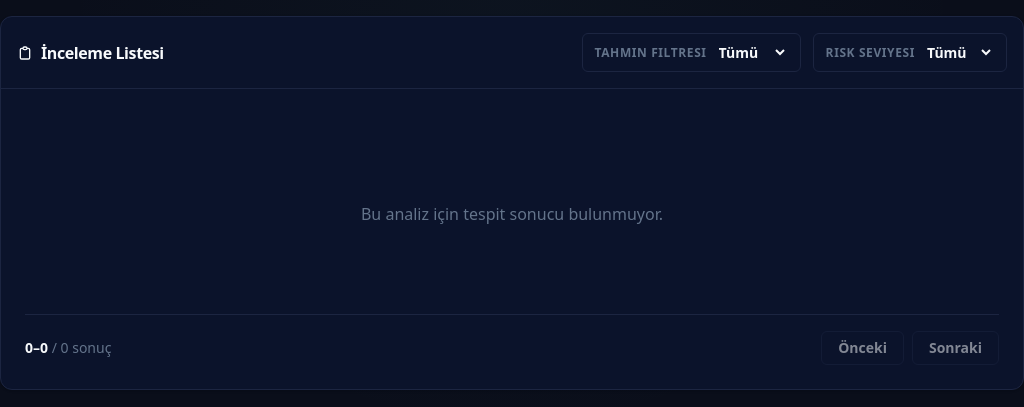
Test: DetectionResultsList › 17. Filtreli ve filtresiz empty state ayrılır
Expected: the text "Bu analiz için tespit sonucu bulunmuyor." is shown, x1=361 y1=202 x2=663 y2=226
Select "Yüksek" in the dropdown labelled "Risk Seviyesi" at point(958, 52), box x1=923 y1=40 x2=994 y2=65
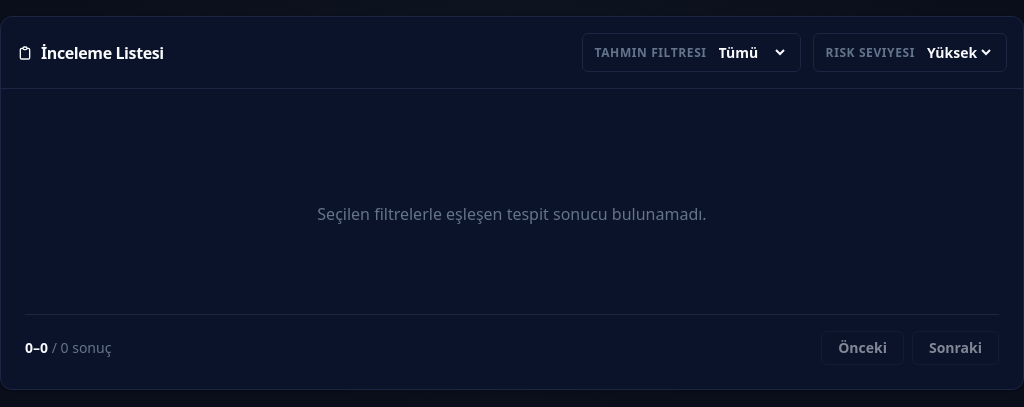
Expected: the text "Seçilen filtrelerle eşleşen tespit sonucu bulunamadı." is shown, x1=317 y1=202 x2=707 y2=226
